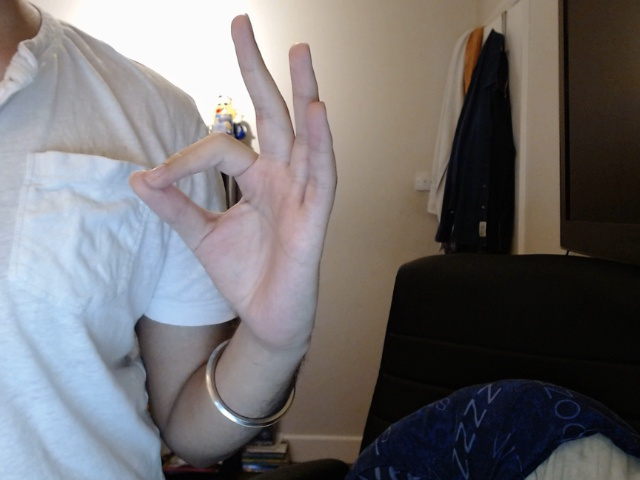Okay: (123, 10, 341, 370)
